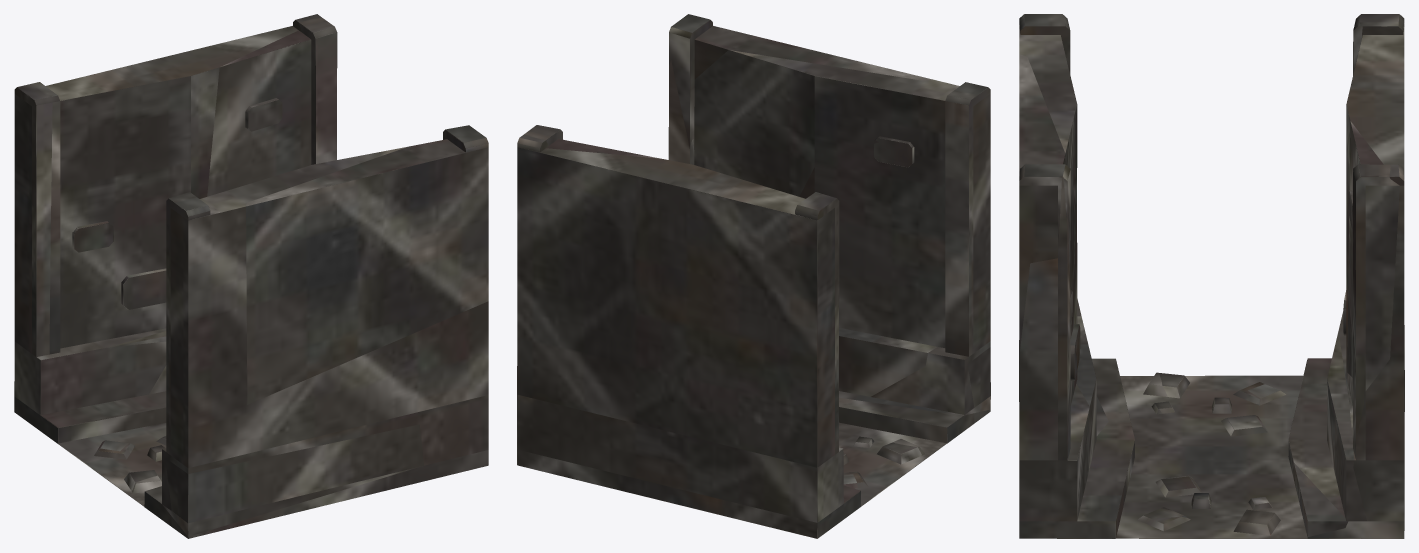
Rendered from corridor_ref.glb.
The picture shows the model from 3 angles, left to right: view 1: azimuth 30°, elevation 25°; view 2: azimuth 150°, elevation 25°; view 3: azimuth 270°, elevation 25°; orthographic projection. The views are drawn at different scales.
Visible parts, largest first — view 1: corridor_ref; view 2: corridor_ref; view 3: corridor_ref.
Boxes of the visible parts, x1=… form: corridor_ref: x1=14, y1=14, x2=488, y2=538; corridor_ref: x1=517, y1=14, x2=990, y2=538; corridor_ref: x1=1019, y1=14, x2=1404, y2=538.
Bounding box in the file's own units: 2.01 × 2.08 × 2.01.
Materials: 1 (1 with a texture image).
